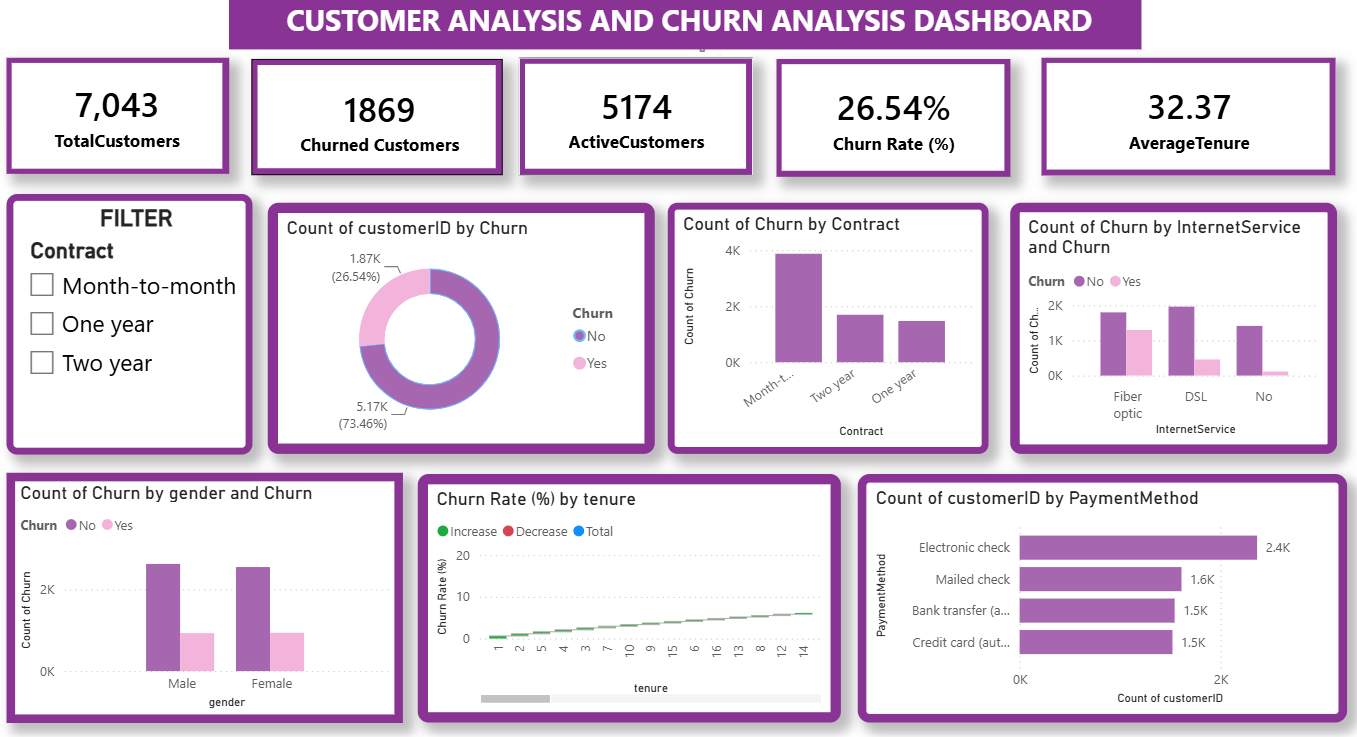

What the dashboard file says about the page in this screenshot:
{"tool":"powerbi","page":{"name":"Page 1","canvas":[1280,720],"ordinal":0},"visuals":[{"type":"cardVisual","fields":{"Data":["WA_Fn-UseC_-Telco-Customer-Churn (2).TotalCustomers"]},"box":[11.6,68.6,207,108.1],"z":0},{"type":"cardVisual","fields":{"Data":["WA_Fn-UseC_-Telco-Customer-Churn (2).Churned Customers"]},"box":[239.5,69.8,233.7,108.1],"z":1000},{"type":"cardVisual","fields":{"Data":["WA_Fn-UseC_-Telco-Customer-Churn (2).ActiveCustomers"]},"box":[488.4,68.6,217.4,109.3],"z":2000},{"type":"cardVisual","fields":{"Data":["WA_Fn-UseC_-Telco-Customer-Churn (2).Churn Rate (%)"]},"box":[727.9,69.8,217.4,109.3],"z":3000},{"type":"cardVisual","fields":{"Data":["WA_Fn-UseC_-Telco-Customer-Churn (2).AverageTenure"]},"box":[974.4,68.6,273.3,109.3],"z":4000},{"type":"textbox","box":[218.8,10,848.8,50],"z":5000},{"type":"slicer","title":"FILTER","fields":{"Values":["WA_Fn-UseC_-Telco-Customer-Churn (2).Contract"]},"box":[11.2,195,228.8,242.5],"z":6000},{"type":"donutChart","fields":{"Category":["WA_Fn-UseC_-Telco-Customer-Churn (2).Churn"],"Y":["CountNonNull(WA_Fn-UseC_-Telco-Customer-Churn (2).customerID)"]},"box":[255,203.8,360,233.8],"z":7000},{"type":"columnChart","fields":{"Category":["WA_Fn-UseC_-Telco-Customer-Churn (2).Contract"],"Y":["CountNonNull(WA_Fn-UseC_-Telco-Customer-Churn (2).Churn)"]},"box":[626.2,203.8,298.8,233.8],"z":8000},{"type":"clusteredColumnChart","fields":{"Y":["CountNonNull(WA_Fn-UseC_-Telco-Customer-Churn (2).Churn)"],"Category":["WA_Fn-UseC_-Telco-Customer-Churn (2).InternetService"],"Series":["WA_Fn-UseC_-Telco-Customer-Churn (2).Churn"]},"box":[945,203.8,303.8,233.8],"z":9000},{"type":"clusteredColumnChart","fields":{"Y":["CountNonNull(WA_Fn-UseC_-Telco-Customer-Churn (2).Churn)"],"Category":["WA_Fn-UseC_-Telco-Customer-Churn (2).gender"],"Series":["WA_Fn-UseC_-Telco-Customer-Churn (2).Churn"]},"box":[11.2,455,368.8,232.5],"z":10000},{"type":"waterfallChart","fields":{"Category":["WA_Fn-UseC_-Telco-Customer-Churn (2).tenure"],"Y":["WA_Fn-UseC_-Telco-Customer-Churn (2).Churn Rate (%)"]},"box":[393.8,456.2,393.8,231.2],"z":11000},{"type":"barChart","fields":{"Y":["CountNonNull(WA_Fn-UseC_-Telco-Customer-Churn (2).customerID)"],"Category":["WA_Fn-UseC_-Telco-Customer-Churn (2).PaymentMethod"]},"box":[803.8,456.2,455,231.2],"z":12000}]}

Visuals, with their boxes in screenshot pixels (x1, y1, x2, y2):
cardVisual - WA_Fn-UseC_-Telco-Customer-Churn (2).TotalCustomers: [9, 61, 226, 175]
cardVisual - WA_Fn-UseC_-Telco-Customer-Churn (2).Churned Customers: [248, 63, 493, 176]
cardVisual - WA_Fn-UseC_-Telco-Customer-Churn (2).ActiveCustomers: [509, 61, 737, 176]
cardVisual - WA_Fn-UseC_-Telco-Customer-Churn (2).Churn Rate (%): [760, 63, 988, 177]
cardVisual - WA_Fn-UseC_-Telco-Customer-Churn (2).AverageTenure: [1018, 61, 1305, 176]
textbox: [226, 0, 1116, 52]
"FILTER" slicer: [8, 194, 248, 448]
donutChart - WA_Fn-UseC_-Telco-Customer-Churn (2).Churn x CountNonNull(WA_Fn-UseC_-Telco-Customer-Churn (2).customerID): [264, 203, 641, 448]
columnChart - WA_Fn-UseC_-Telco-Customer-Churn (2).Contract x CountNonNull(WA_Fn-UseC_-Telco-Customer-Churn (2).Churn): [653, 203, 967, 448]
clusteredColumnChart - CountNonNull(WA_Fn-UseC_-Telco-Customer-Churn (2).Churn) x WA_Fn-UseC_-Telco-Customer-Churn (2).InternetService: [988, 203, 1306, 448]
clusteredColumnChart - CountNonNull(WA_Fn-UseC_-Telco-Customer-Churn (2).Churn) x WA_Fn-UseC_-Telco-Customer-Churn (2).gender: [8, 467, 395, 710]
waterfallChart - WA_Fn-UseC_-Telco-Customer-Churn (2).tenure x WA_Fn-UseC_-Telco-Customer-Churn (2).Churn Rate (%): [409, 468, 823, 710]
barChart - CountNonNull(WA_Fn-UseC_-Telco-Customer-Churn (2).customerID) x WA_Fn-UseC_-Telco-Customer-Churn (2).PaymentMethod: [839, 468, 1317, 710]
